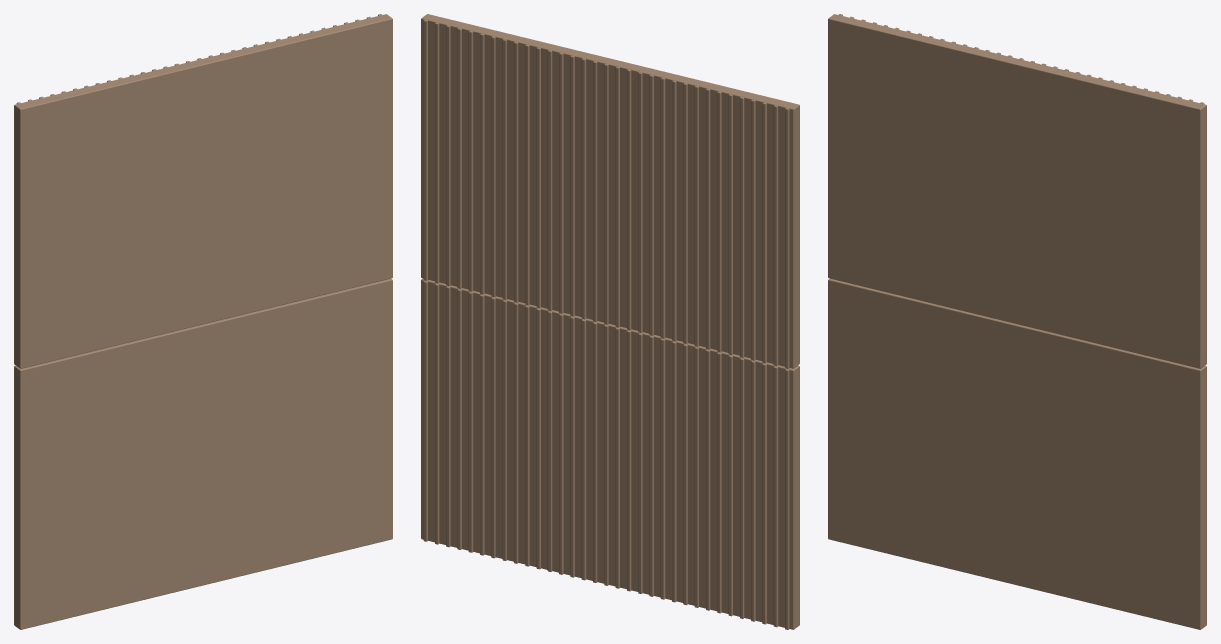
Rendered from DRAWERS_2_600x800.glb.
3 views of the same model, side by side, from view 1: azimuth 30°, elevation 25°; view 2: azimuth 150°, elevation 25°; view 3: azimuth 330°, elevation 25° (orthographic).
Parts seen in each view (by area): view 1: front_panel_01, front_panel_02; view 2: front_panel_01, front_panel_02, front_panel_01_rib_012, front_panel_01_rib_019, front_panel_01_rib_029, front_panel_02_rib_002, front_panel_02_rib_012, front_panel_01_rib_002, front_panel_01_rib_022, front_panel_02_rib_019, front_panel_02_rib_022, front_panel_02_rib_029 (+56 smaller); view 3: front_panel_01, front_panel_02.
Boxes of the visible parts, x1,y1,x2,y2 form: front_panel_01: (14, 14, 392, 368); front_panel_02: (14, 278, 392, 629); front_panel_01: (421, 14, 799, 368); front_panel_02: (421, 278, 799, 629); front_panel_01_rib_012: (660, 77, 665, 338); front_panel_01_rib_019: (581, 58, 586, 319); front_panel_01_rib_029: (468, 30, 473, 291); front_panel_02_rib_002: (773, 366, 778, 627); front_panel_02_rib_012: (660, 338, 665, 599); front_panel_01_rib_002: (773, 105, 778, 365); front_panel_01_rib_022: (547, 50, 552, 310); front_panel_02_rib_019: (581, 319, 586, 580); front_panel_02_rib_022: (547, 311, 552, 571); front_panel_02_rib_029: (468, 292, 473, 552); front_panel_01: (828, 14, 1206, 368); front_panel_02: (828, 278, 1206, 629).
Size of the model in its own units: 0.596 by 0.796 by 0.022.
